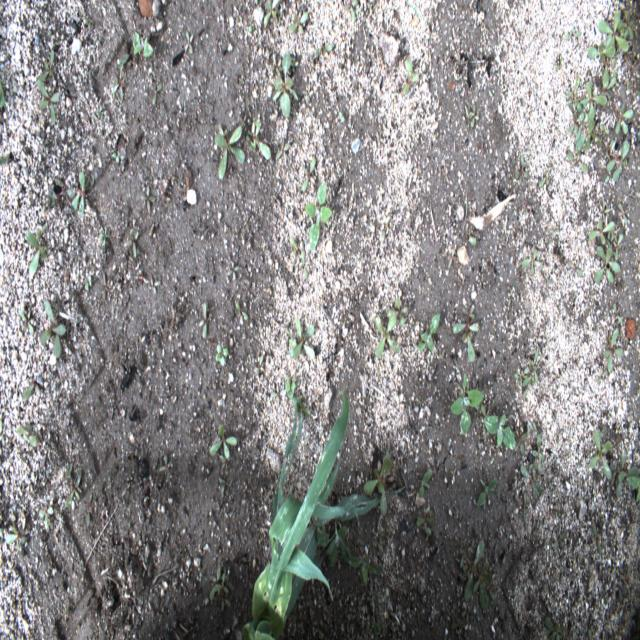crop: (244, 388, 406, 640)
weed: (456, 542, 494, 610), (449, 371, 483, 437), (303, 181, 334, 253), (362, 447, 393, 518), (40, 297, 67, 357), (274, 51, 298, 117), (317, 524, 351, 568), (568, 110, 604, 151), (215, 124, 242, 178), (599, 12, 631, 54), (604, 138, 632, 184), (589, 429, 613, 482), (284, 316, 312, 361), (580, 78, 608, 122), (208, 421, 238, 462), (346, 554, 384, 586), (485, 411, 516, 450), (25, 233, 49, 282), (374, 316, 401, 359), (451, 322, 480, 362), (36, 82, 60, 126), (416, 310, 441, 352), (245, 118, 271, 158), (64, 460, 84, 510), (72, 171, 93, 217), (603, 328, 624, 373), (112, 52, 130, 104), (520, 465, 544, 501), (369, 592, 387, 638), (589, 218, 616, 244), (209, 567, 229, 602), (596, 246, 621, 274), (5, 525, 28, 555), (521, 248, 545, 276), (403, 57, 420, 96), (476, 478, 498, 508), (132, 30, 154, 60), (386, 296, 408, 326), (596, 246, 614, 282), (300, 156, 317, 194), (565, 149, 589, 175), (416, 508, 436, 538), (614, 105, 633, 136), (588, 42, 617, 62), (544, 617, 570, 639), (16, 423, 38, 448), (37, 48, 53, 82), (124, 225, 140, 259), (515, 152, 530, 188), (140, 184, 157, 215), (626, 466, 640, 502), (515, 368, 531, 399), (533, 432, 544, 474), (617, 447, 626, 497), (288, 12, 308, 34), (23, 381, 42, 404), (620, 10, 635, 39), (275, 138, 291, 164), (568, 73, 581, 105), (294, 396, 312, 419), (624, 564, 636, 598), (159, 451, 173, 480), (603, 64, 617, 92), (263, 1, 278, 27), (284, 378, 300, 402), (214, 344, 230, 367), (300, 80, 314, 106), (418, 468, 430, 498), (592, 524, 603, 556), (19, 312, 35, 333), (345, 0, 361, 21), (150, 80, 164, 104), (315, 43, 336, 59), (611, 229, 623, 257), (530, 348, 539, 384), (300, 249, 309, 284), (553, 531, 568, 551), (235, 300, 250, 320), (539, 164, 551, 189), (201, 300, 208, 342), (617, 201, 628, 227), (226, 259, 239, 281), (85, 492, 93, 526), (567, 260, 582, 278), (148, 276, 162, 295), (33, 223, 46, 243), (270, 384, 286, 400), (468, 102, 477, 129), (98, 229, 110, 249), (254, 355, 264, 379), (461, 305, 476, 321), (616, 574, 624, 604), (47, 186, 58, 207), (612, 303, 622, 326), (461, 603, 476, 618), (467, 233, 481, 249), (0, 78, 7, 110), (93, 108, 104, 128), (610, 455, 618, 482), (41, 510, 50, 533), (185, 30, 193, 55), (85, 273, 94, 295), (599, 202, 613, 216), (565, 30, 582, 41), (101, 270, 107, 297), (600, 122, 610, 138), (220, 598, 232, 611), (597, 368, 607, 383), (111, 148, 120, 164), (84, 16, 95, 29), (0, 416, 5, 444), (480, 400, 487, 418), (520, 431, 525, 456), (556, 56, 564, 70), (451, 621, 467, 628), (0, 155, 10, 166), (290, 237, 298, 250), (339, 110, 346, 124), (523, 492, 526, 522), (247, 24, 255, 34), (488, 90, 494, 100), (588, 630, 593, 639), (606, 174, 610, 183), (108, 475, 111, 485)
